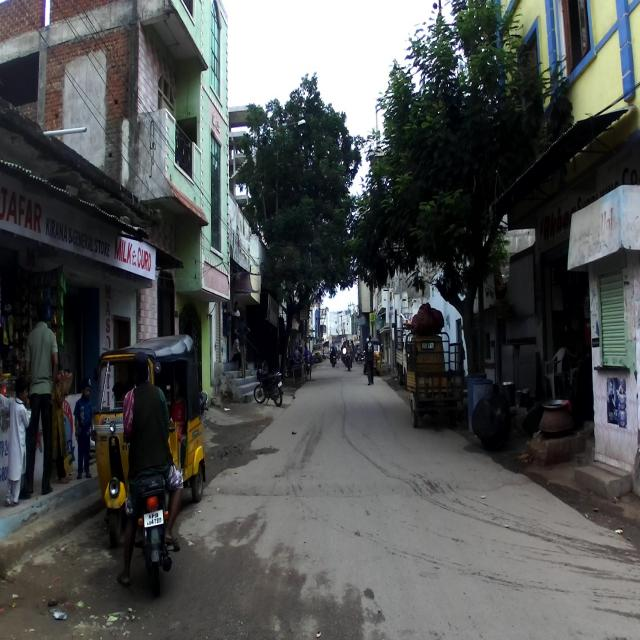autorickshaw: (90, 333, 204, 545), (403, 302, 464, 434)
motorcycle: (123, 422, 177, 597), (253, 359, 284, 406)
